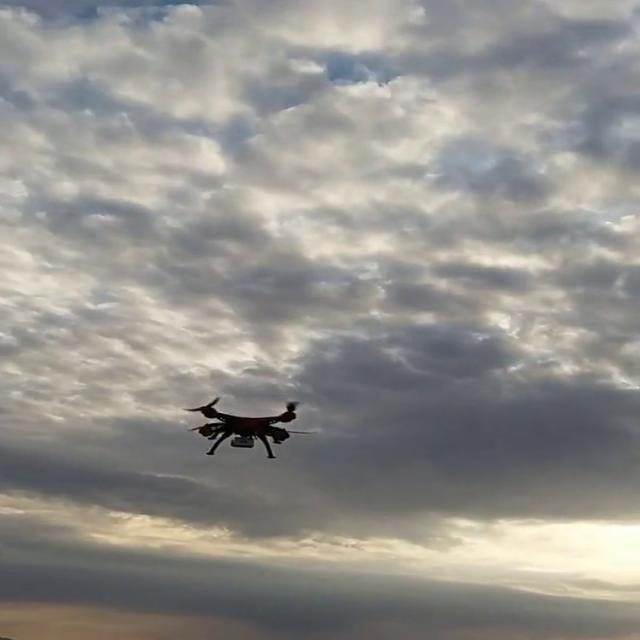drone: (176, 395, 317, 459)
